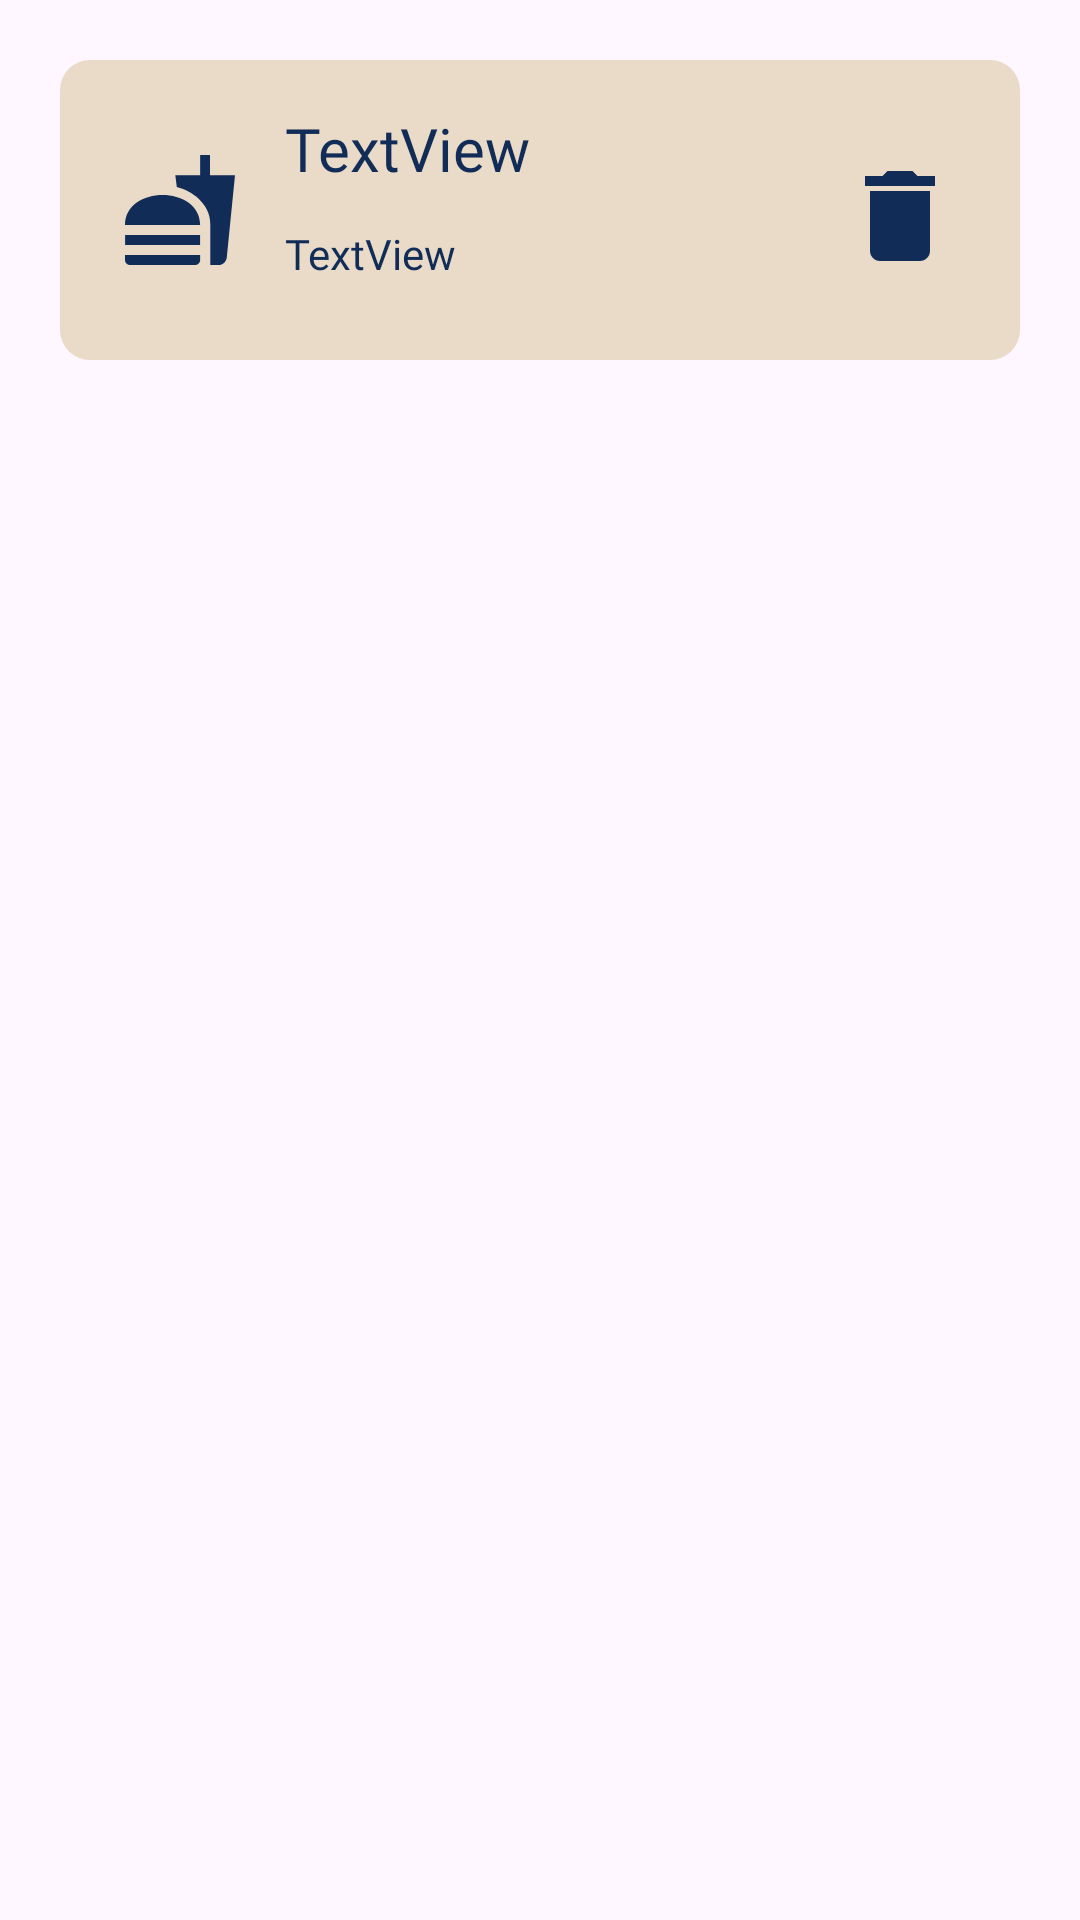

Icon click points for this 1080×1920 phone screenshot, format (x=x, y=y):
delete: (x=900, y=216)
